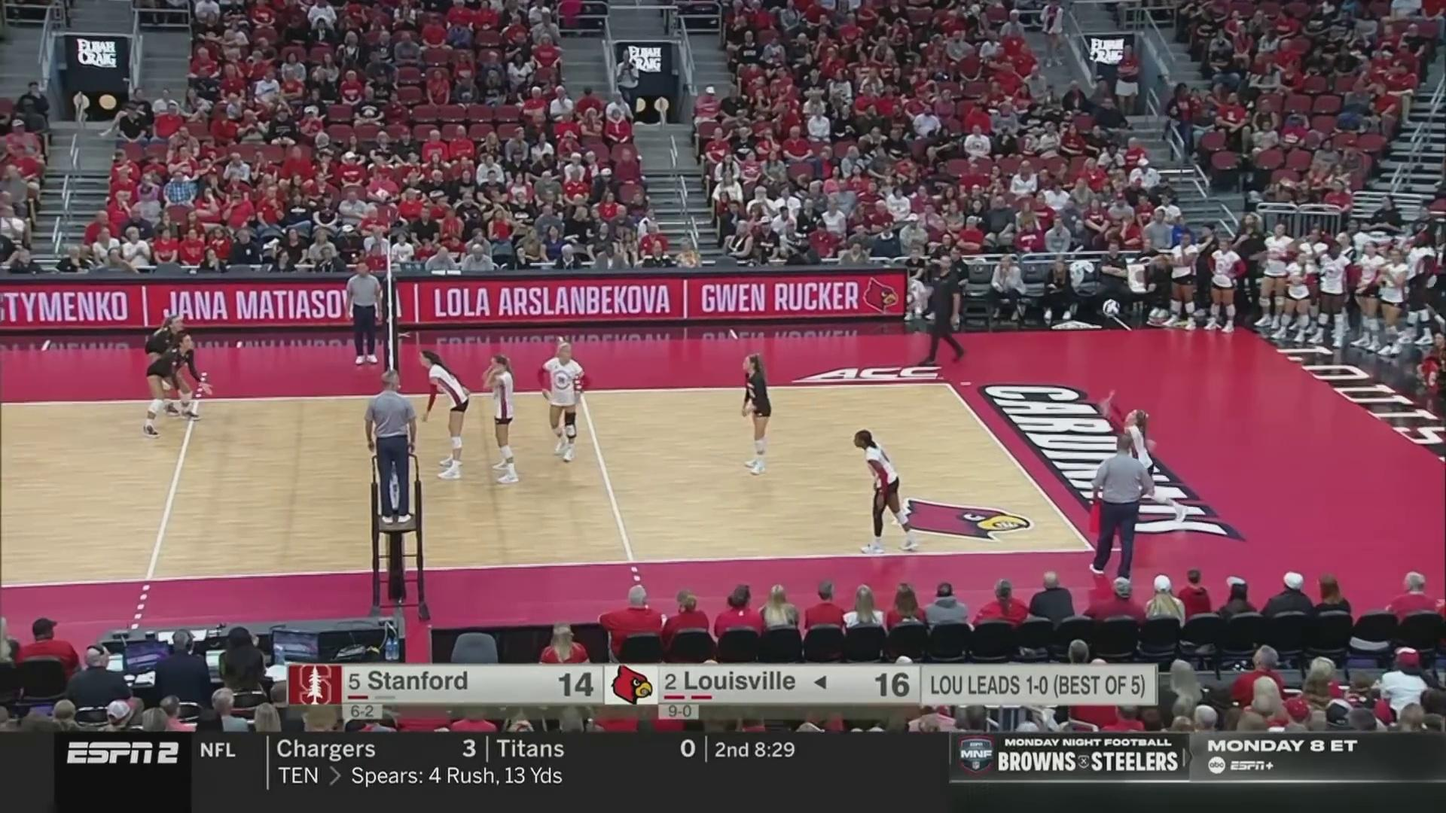player: (1102, 394, 1188, 524), (852, 430, 918, 554), (143, 336, 207, 437), (538, 340, 589, 466), (422, 353, 472, 479), (732, 353, 776, 478), (483, 355, 523, 486), (145, 312, 196, 413)
refree: (1092, 434, 1149, 587), (362, 370, 419, 521), (346, 263, 385, 365)
